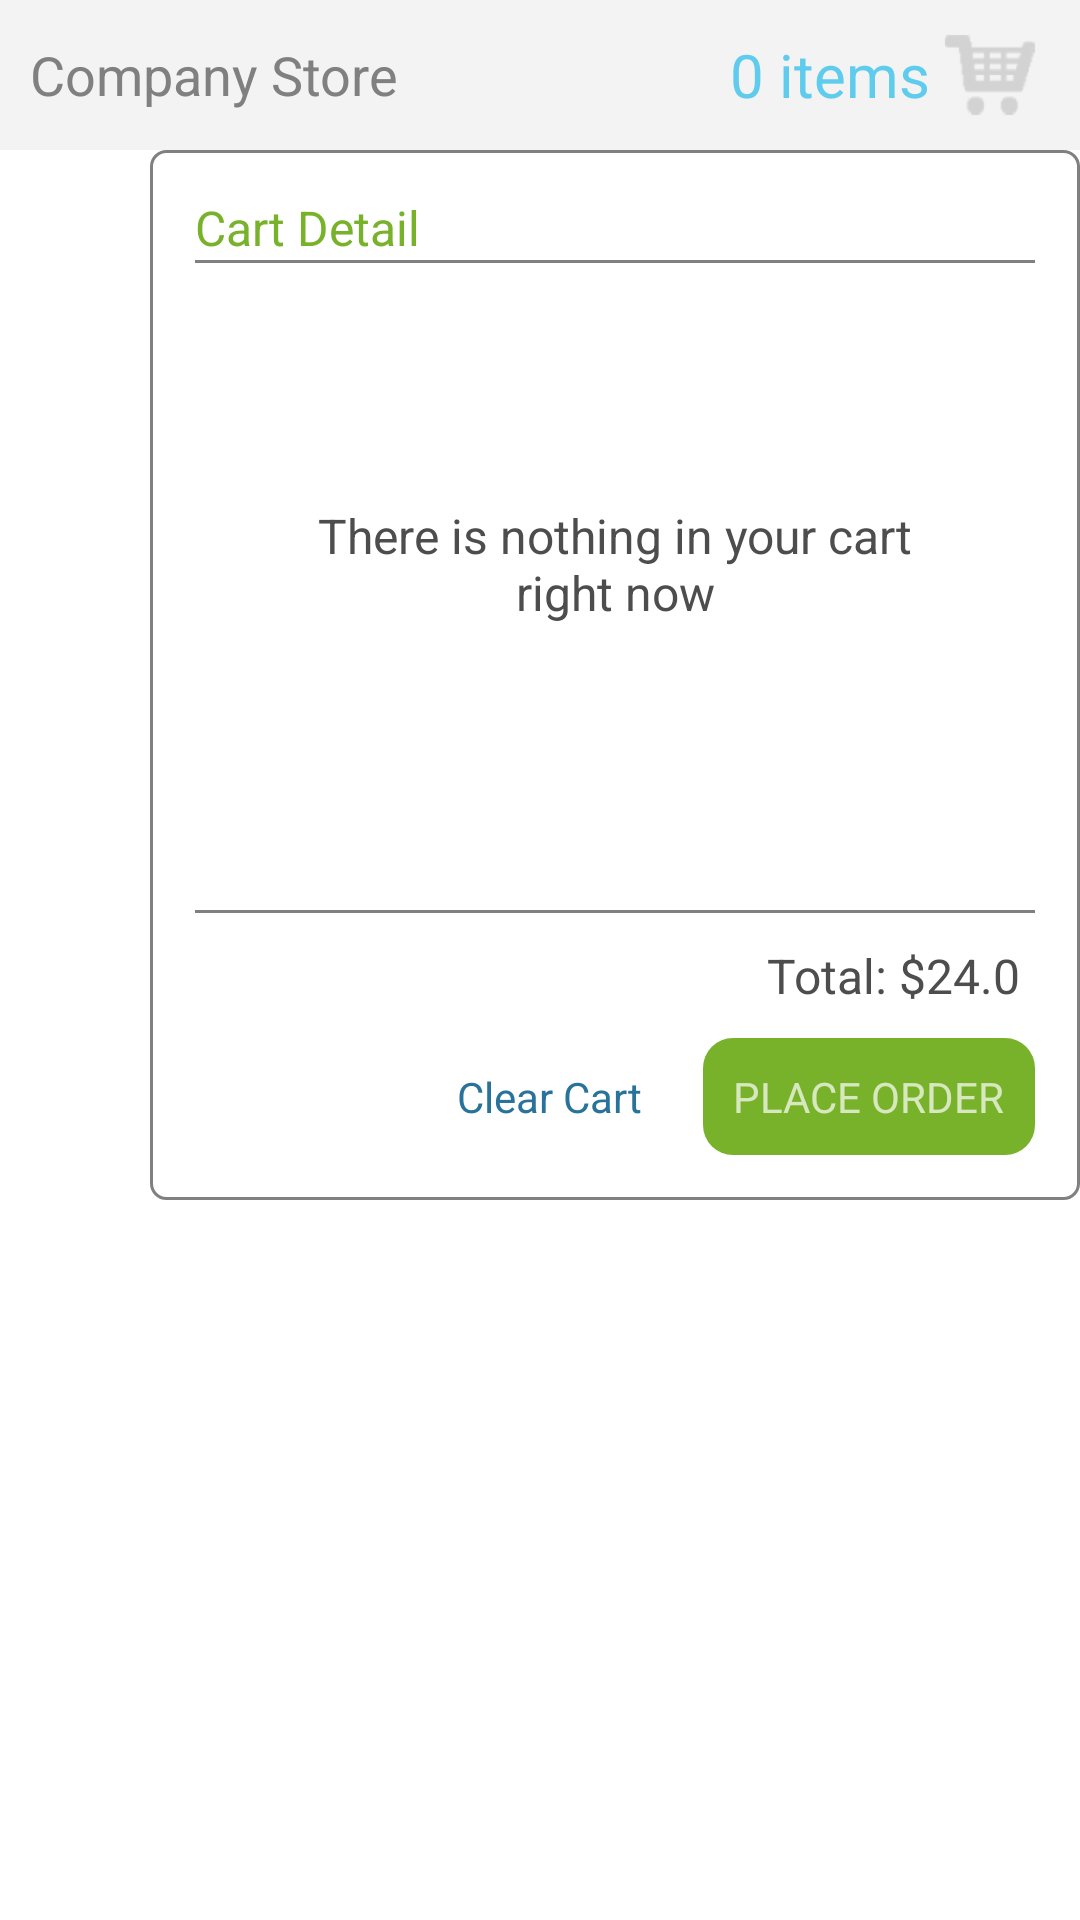

Screen size 1080w x 1920h. Icon name, then its box in pixels as bbox=[x1, y1, x2, y2]:
cart: bbox=[945, 35, 1035, 115]
